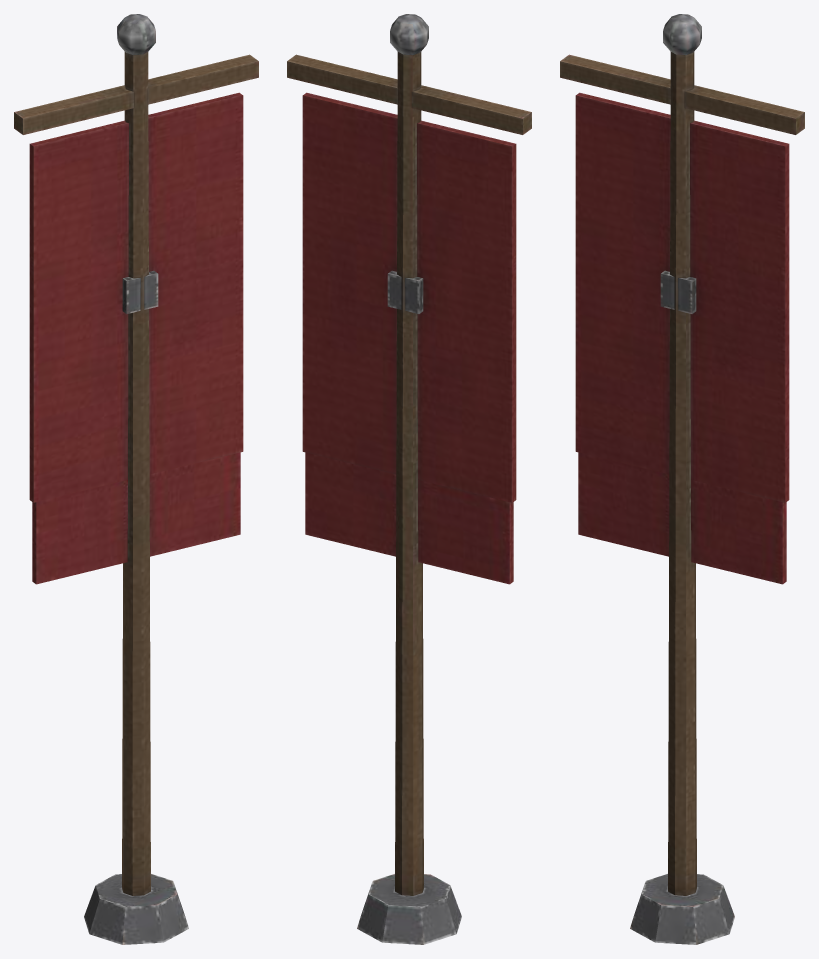
Rendered from estandarte_rubro.glb.
3 renders of one model, left to right at view 1: azimuth 30°, elevation 25°; view 2: azimuth 150°, elevation 25°; view 3: azimuth 330°, elevation 25°, orthographic.
Visible parts, largest first — view 1: estandarte_rubro; view 2: estandarte_rubro; view 3: estandarte_rubro.
Boxes of the visible parts, x1,y1,x2,y2 form: estandarte_rubro: [14, 14, 258, 944]; estandarte_rubro: [287, 14, 531, 944]; estandarte_rubro: [560, 14, 804, 944].
Bounding box in the file's own units: 0.9 × 3.31 × 0.36.
1 material, 1 textured.
